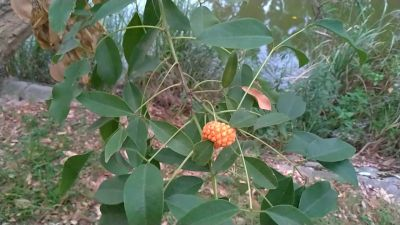eggs: (199, 116, 237, 149)
